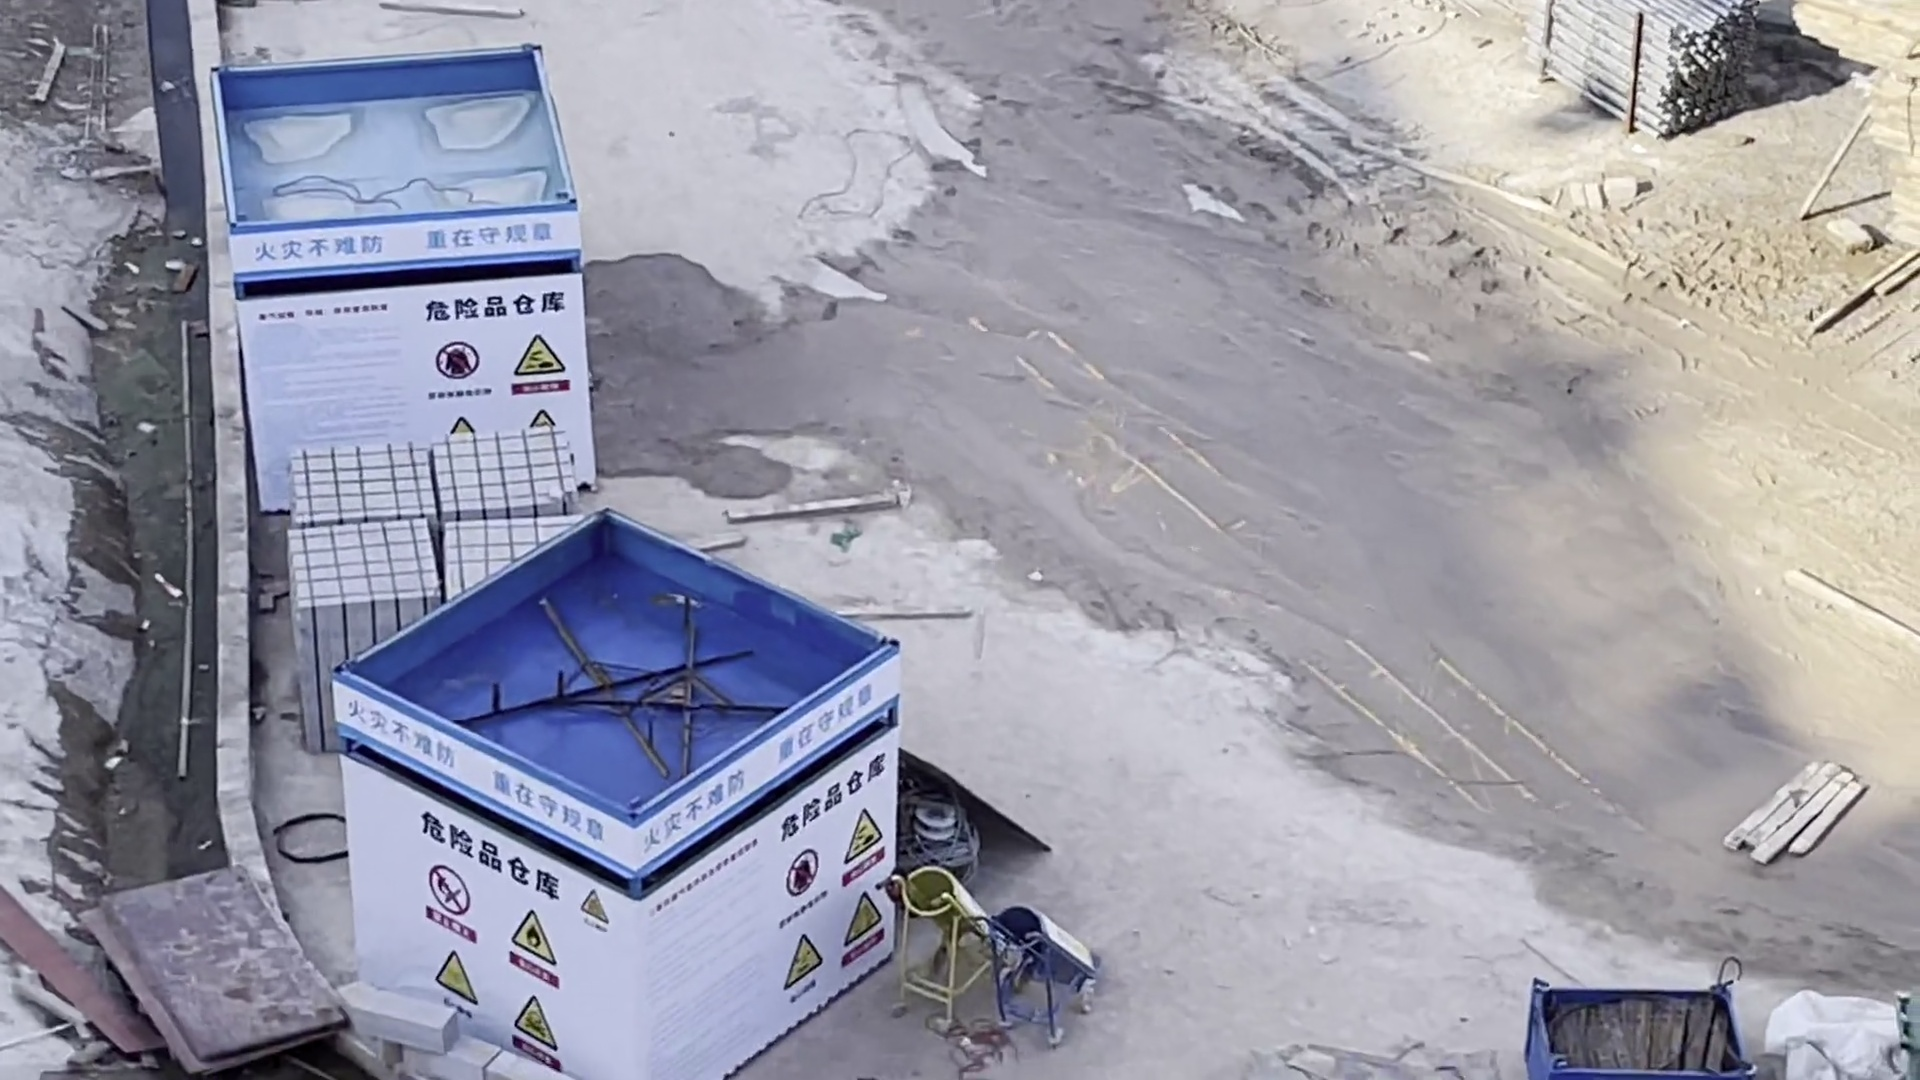board: (65, 880, 363, 1077)
brick: (299, 435, 583, 765)
scaffold: (1531, 1, 1811, 131)
slogan: (345, 679, 611, 852), (644, 721, 924, 808), (243, 200, 568, 266)
